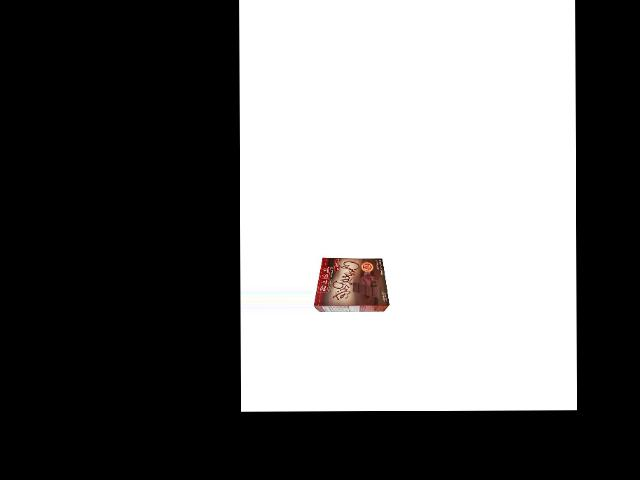chocolate: (315, 256, 389, 311)
